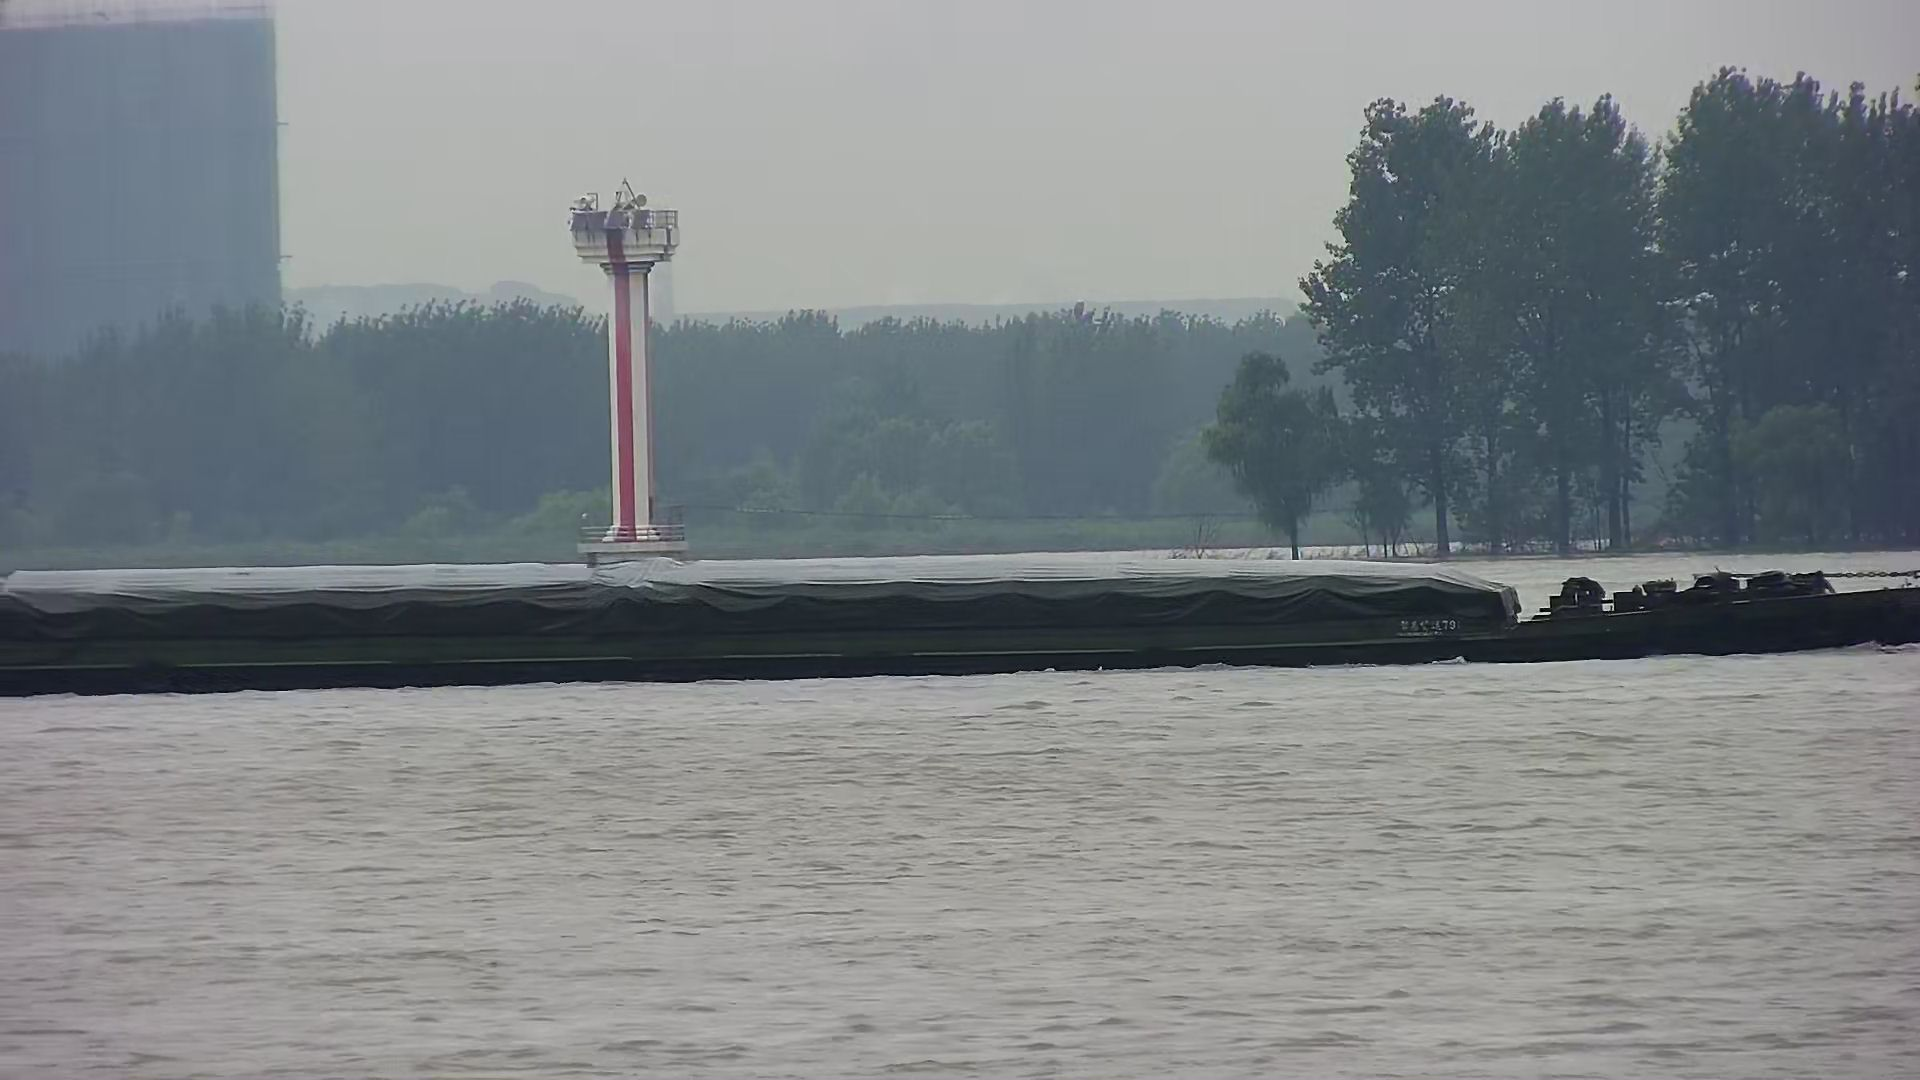platform: (567, 171, 692, 560)
ship: (1, 574, 1920, 696)
tree: (1444, 91, 1676, 555), (1295, 92, 1514, 560), (1724, 76, 1920, 550), (1658, 76, 1822, 549), (1201, 356, 1337, 555)
